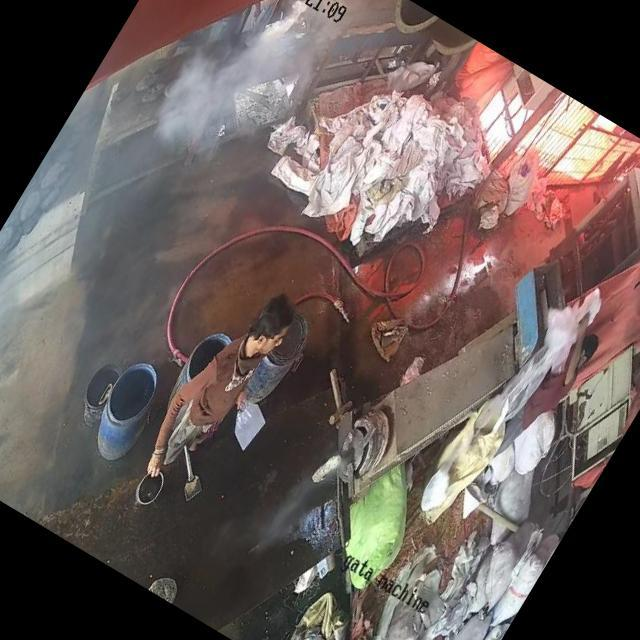person: (114, 280, 304, 537), (489, 317, 608, 484)
